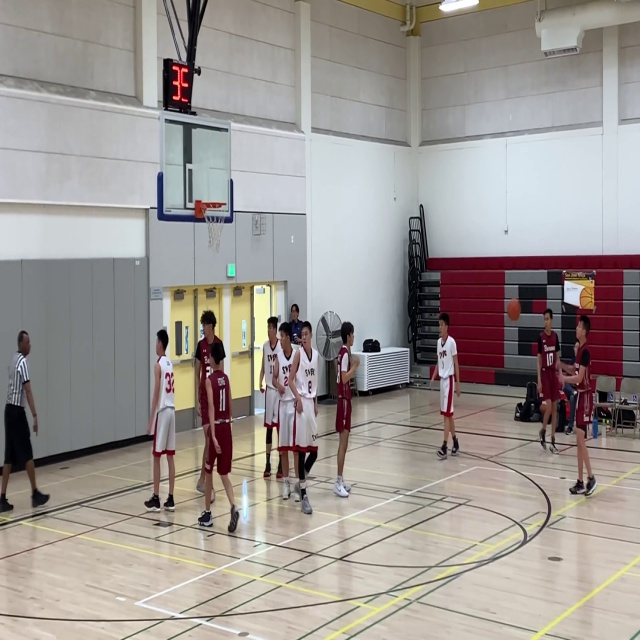Basketball: (507, 299, 521, 321)
